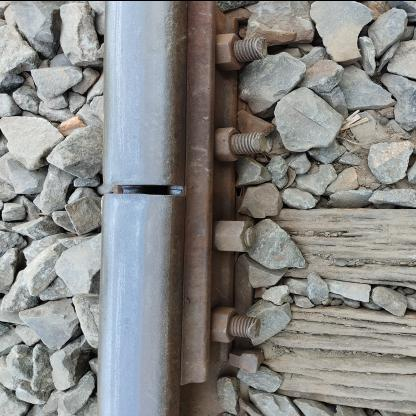Non Defective 2: (63, 128, 218, 246)
Non Defective 3: (168, 1, 274, 396)
